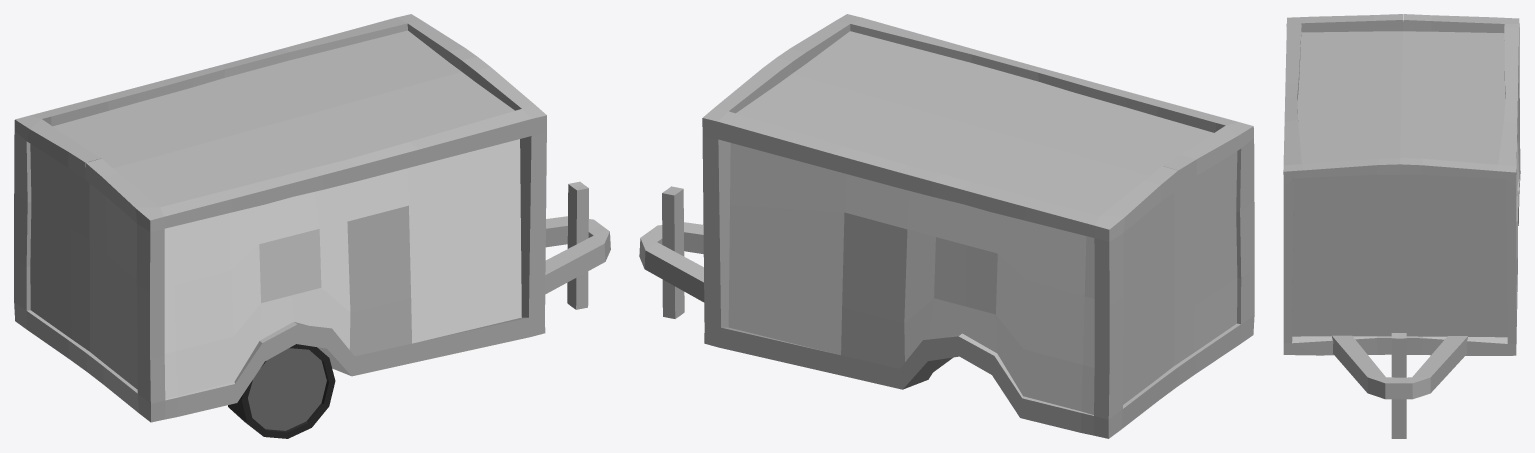
The model's file is trolly2.fbx.
3 views of the same model, side by side, from view 1: azimuth 30°, elevation 25°; view 2: azimuth 150°, elevation 25°; view 3: azimuth 270°, elevation 25° (orthographic). The views are drawn at different scales.
Visible parts, largest first — view 1: Pallet.001; view 2: Pallet.001; view 3: Pallet.001.
Part boxes in pixels (x1=…): Pallet.001: x1=14, y1=14, x2=610, y2=438; Pallet.001: x1=639, y1=14, x2=1254, y2=438; Pallet.001: x1=1283, y1=14, x2=1520, y2=438.
Bounding box in the file's own units: 315 × 342 × 674.
1 material, 1 textured.
